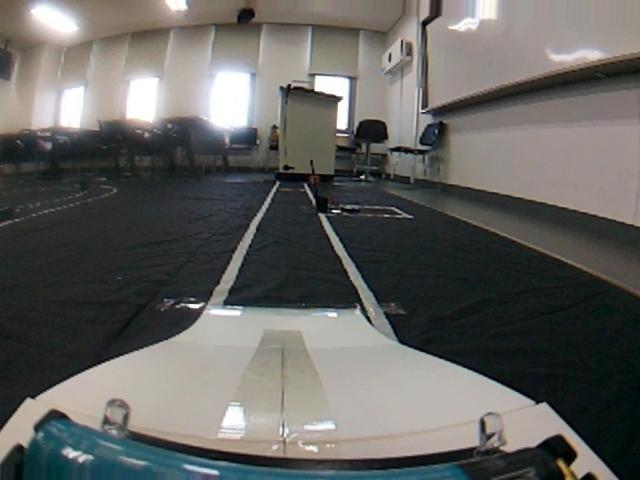hill_down: (6, 278, 631, 425)
